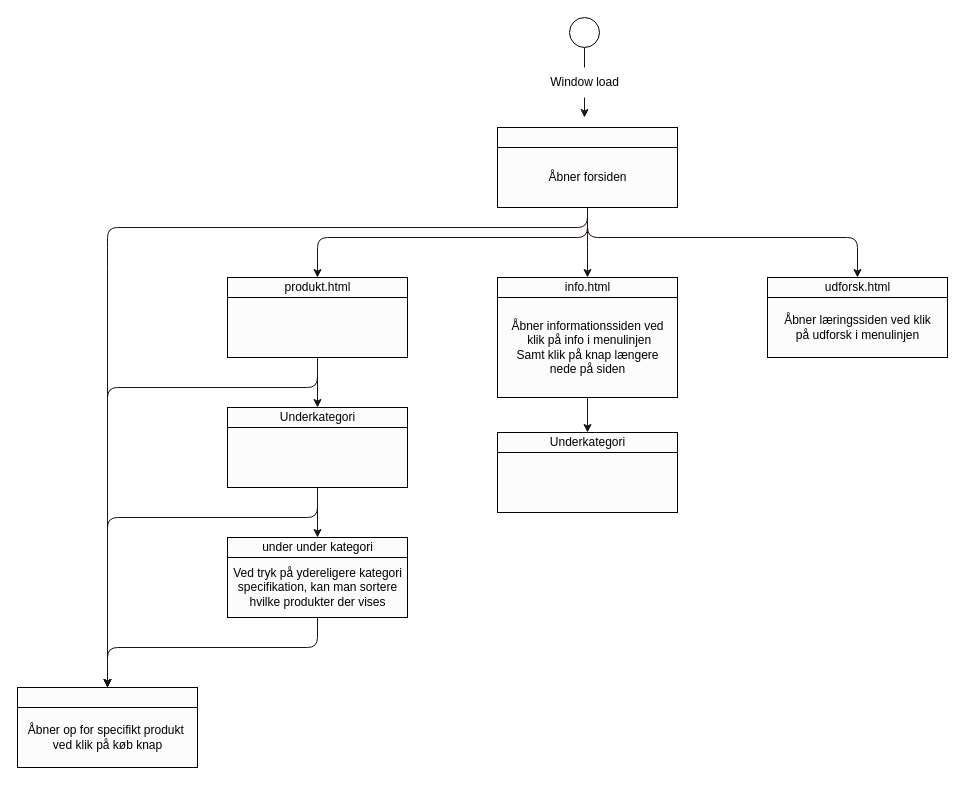
Image size: 965x785. Some labels were removed from this diagram. The centre of each missing label's shape, as x and y in pixels:
index.html: (x=587, y=137)
produkt_specifik.html: (x=107, y=697)
Ved tryk på underkategori, hopper man automatisk ned til det emne man vælger: (x=587, y=482)
Ved tryk på underkategori, kan man sortere hvilke produkter der vises: (x=317, y=457)
Åbner produktsiden ved klik på produkt i menulinjen: (x=317, y=327)
